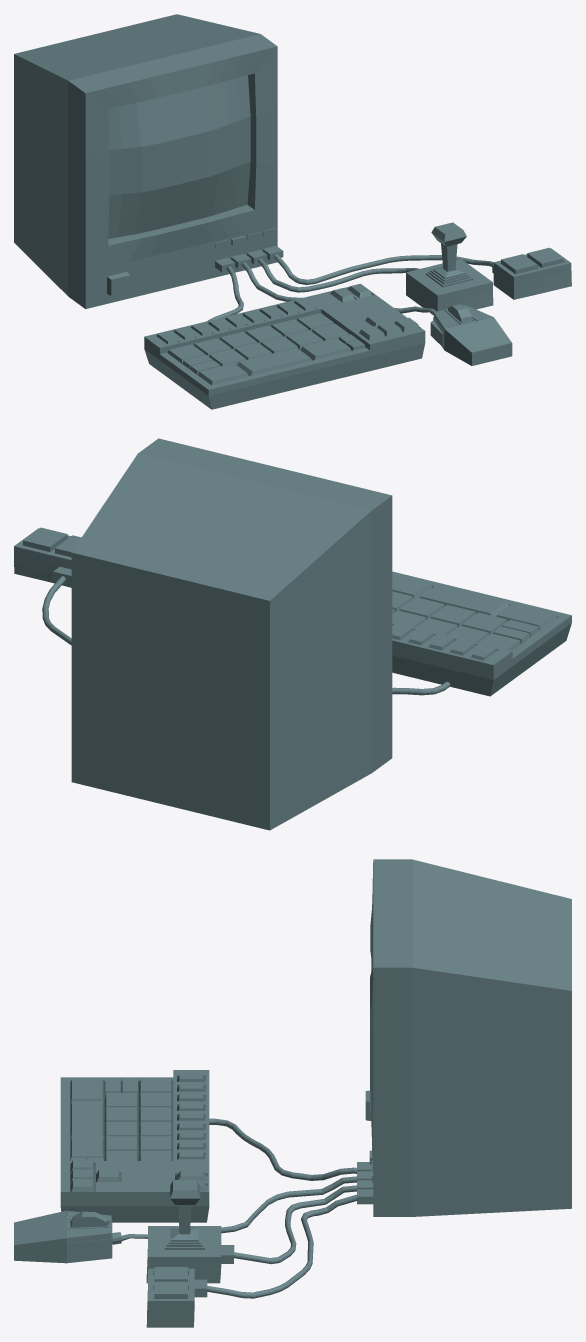
The model's file is PCRetro.fbx.
3 views of the same model, one above another, from view 1: azimuth 30°, elevation 25°; view 2: azimuth 150°, elevation 25°; view 3: azimuth 270°, elevation 25° (orthographic). The views are drawn at different scales.
Visible parts, largest first — view 1: PCRetro.002; view 2: PCRetro.002; view 3: PCRetro.002.
Part boxes in pixels (bbox=[...]): PCRetro.002: bbox=[14, 14, 571, 409]; PCRetro.002: bbox=[14, 438, 571, 830]; PCRetro.002: bbox=[14, 859, 571, 1327].
Bounding box in the file's own units: 105 × 54.56 × 110.
